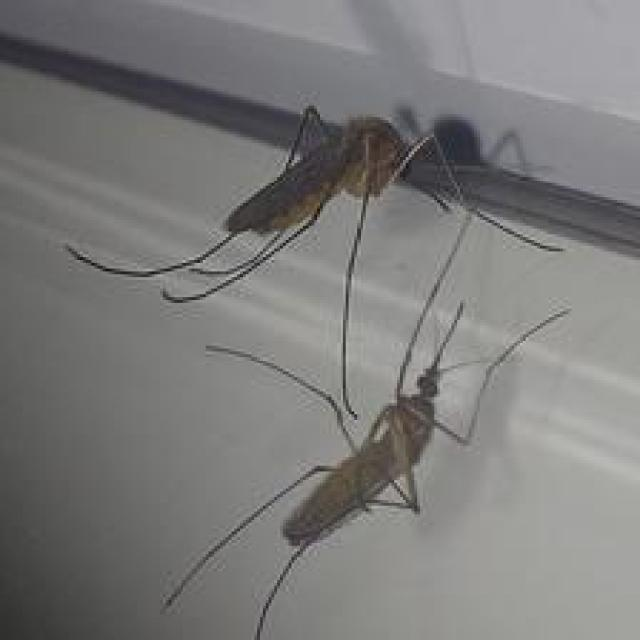Culex: (63, 101, 566, 422)
